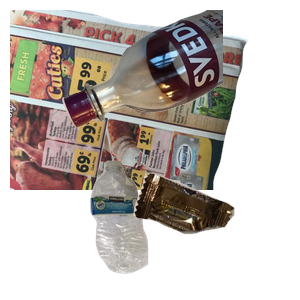glass: (60, 10, 300, 130)
paper: (10, 10, 250, 190)
plastic: (88, 158, 229, 300)
trash: (131, 171, 300, 300)
